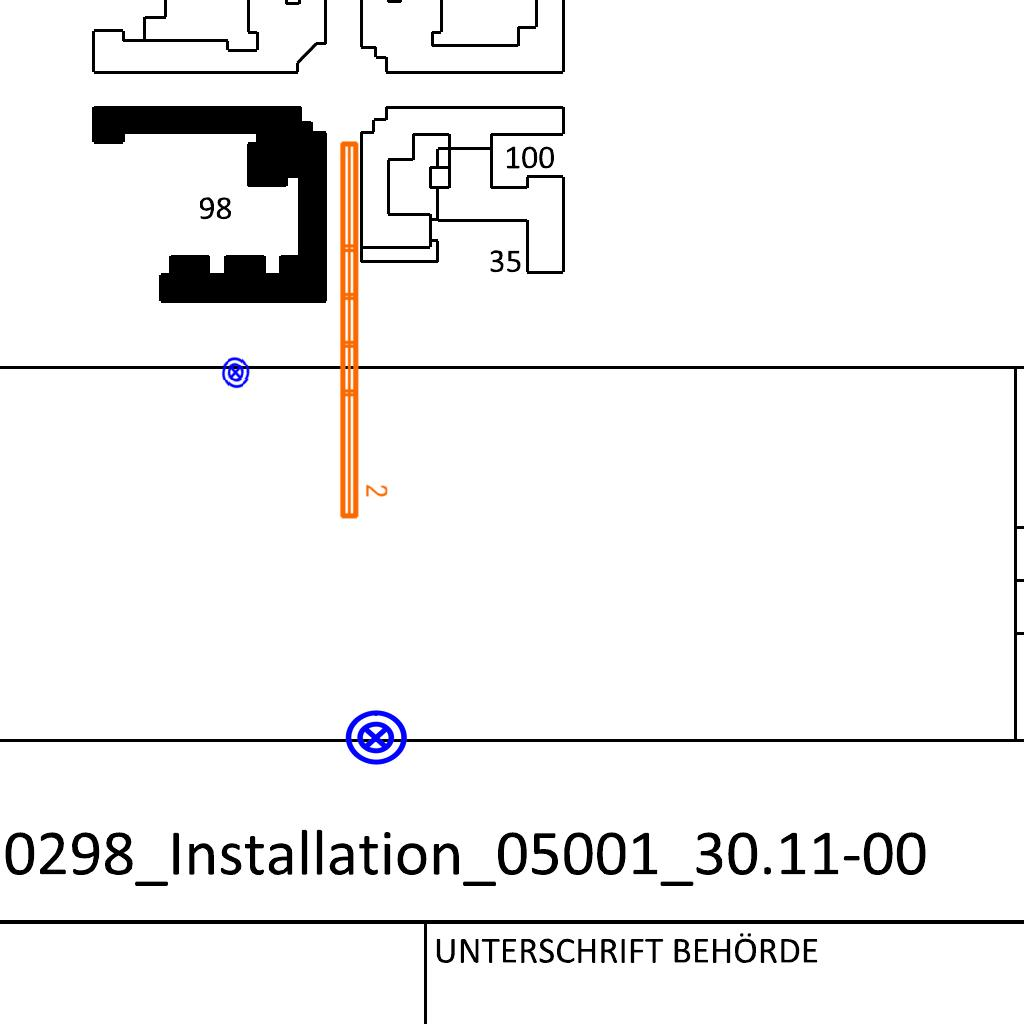Ambulanz_Pendelleuchte_LED: (334, 136, 390, 523)
Taster_beleuchtet: (343, 705, 409, 771), (217, 354, 254, 391)
